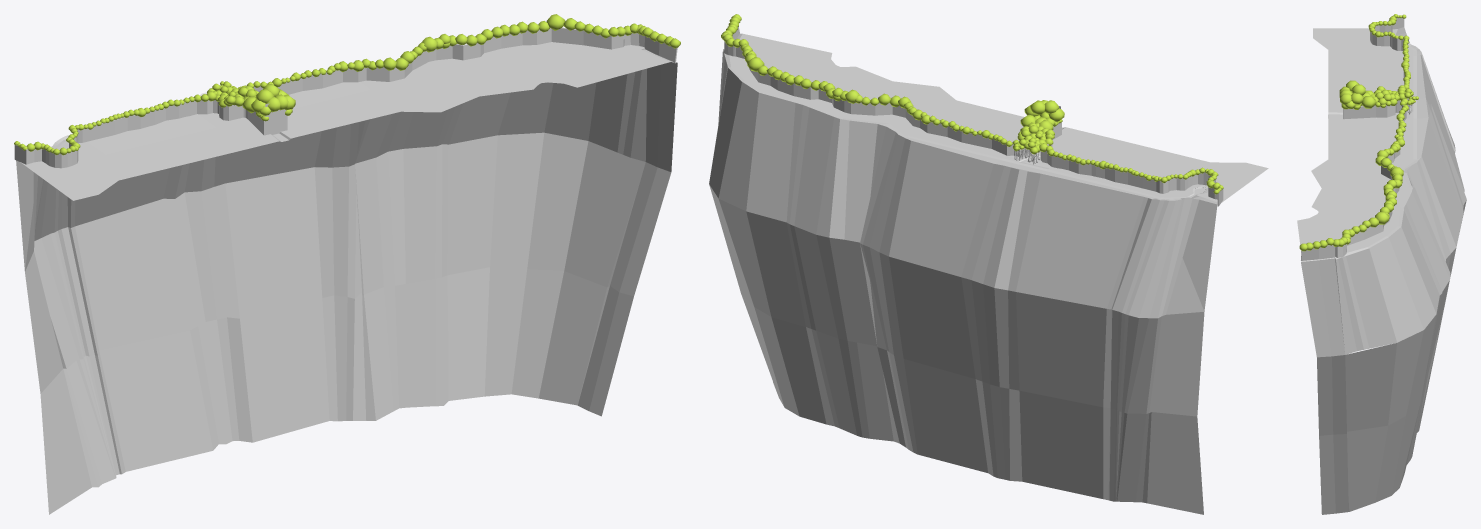
File: eternity-forest.fbx
3 renders of one model, left to right at view 1: azimuth 30°, elevation 25°; view 2: azimuth 150°, elevation 25°; view 3: azimuth 270°, elevation 25°, orthographic. The views are drawn at different scales.
Visible parts, largest first — view 1: CliffSide, fortestWall, treeTop.021; view 2: CliffSide, treeTop.021, fortestWall; view 3: CliffSide, treeTop.021, fortestWall.
Boxes of the visible parts, <box> form: CliffSide: <box>16,42,677,514</box>; fortestWall: <box>14,27,677,168</box>; treeTop.021: <box>14,14,680,155</box>; CliffSide: <box>709,33,1268,514</box>; treeTop.021: <box>721,14,1223,194</box>; fortestWall: <box>724,27,1223,206</box>; CliffSide: <box>1297,27,1466,514</box>; treeTop.021: <box>1299,14,1410,251</box>; fortestWall: <box>1301,18,1406,260</box>.
Size of the model in its own units: 91001 by 56902 by 27874.
